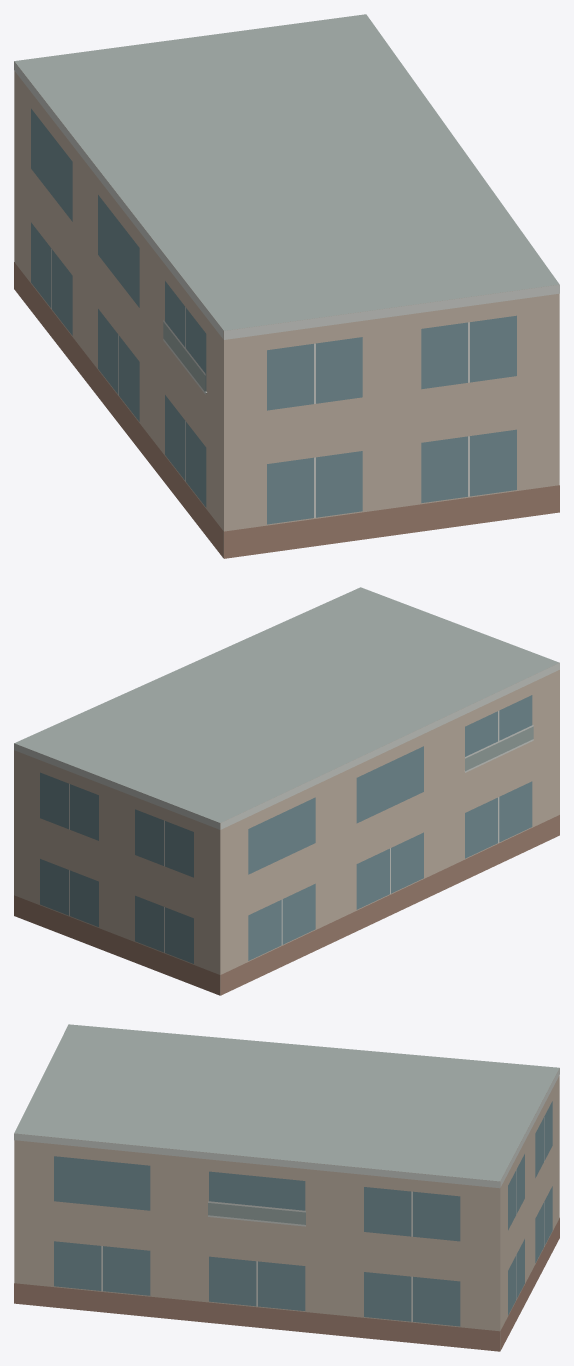
The model's file is survey-upis-32879687.glb.
3 renders of one model, top to bottom at view 1: azimuth 30°, elevation 25°; view 2: azimuth 150°, elevation 25°; view 3: azimuth 270°, elevation 25°, orthographic. The views are drawn at different scales.
Parts seen in each view (by area): view 1: survey-upis-32879687.tmp; view 2: survey-upis-32879687.tmp; view 3: survey-upis-32879687.tmp.
Part boxes in pixels (bbox=[...]): survey-upis-32879687.tmp: bbox=[14, 14, 559, 558]; survey-upis-32879687.tmp: bbox=[14, 587, 559, 995]; survey-upis-32879687.tmp: bbox=[14, 1024, 559, 1351].
Bounding box in the file's own units: 12.1 × 6.1 × 17.74.
